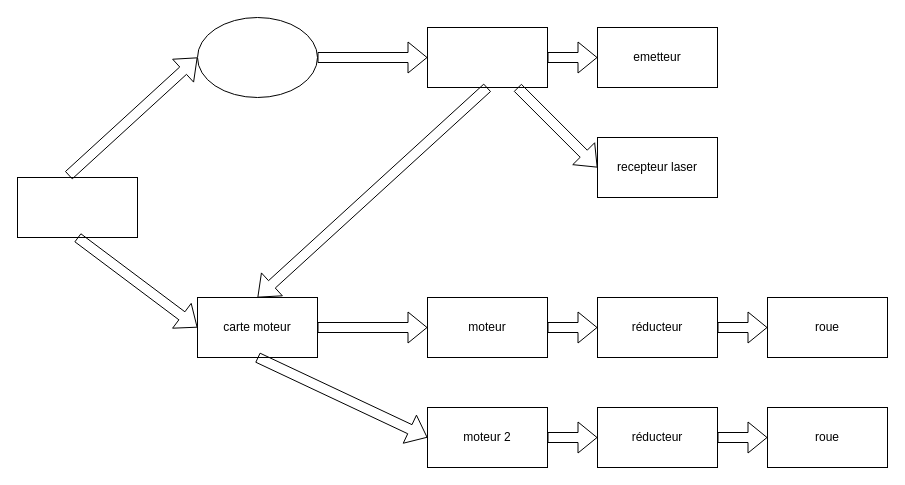
The diagram is 905 pixels wide and 485 high, and some of its shapes have lost their labels. The shapes that lost their labels are listed below. From the top down, each one's box as (x1, y1, x2, y2) in pixels, then its label:
(426, 26, 548, 88): ESP32
(16, 176, 138, 238): batterie
